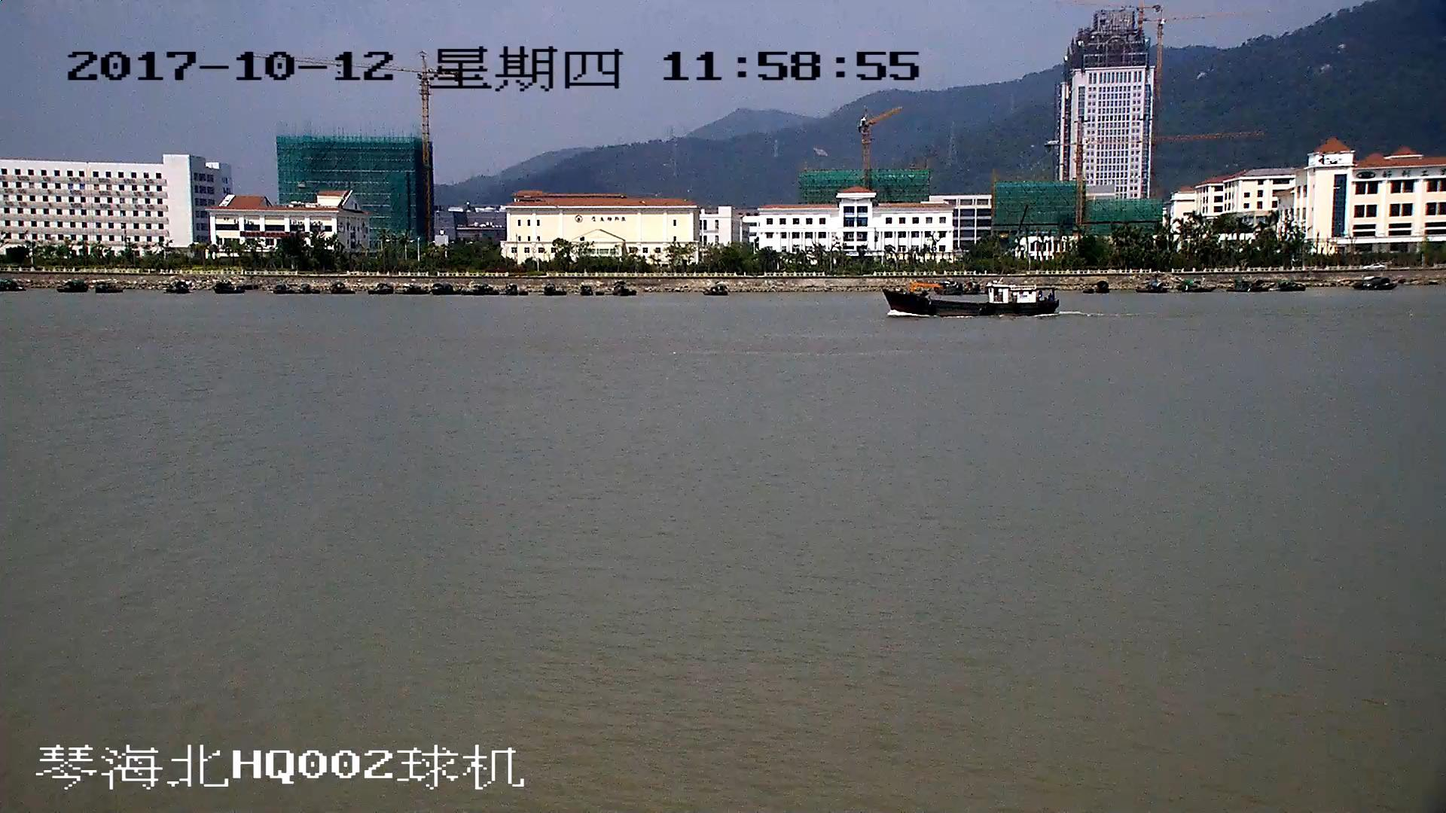fishing boat: (881, 283, 1055, 313)
